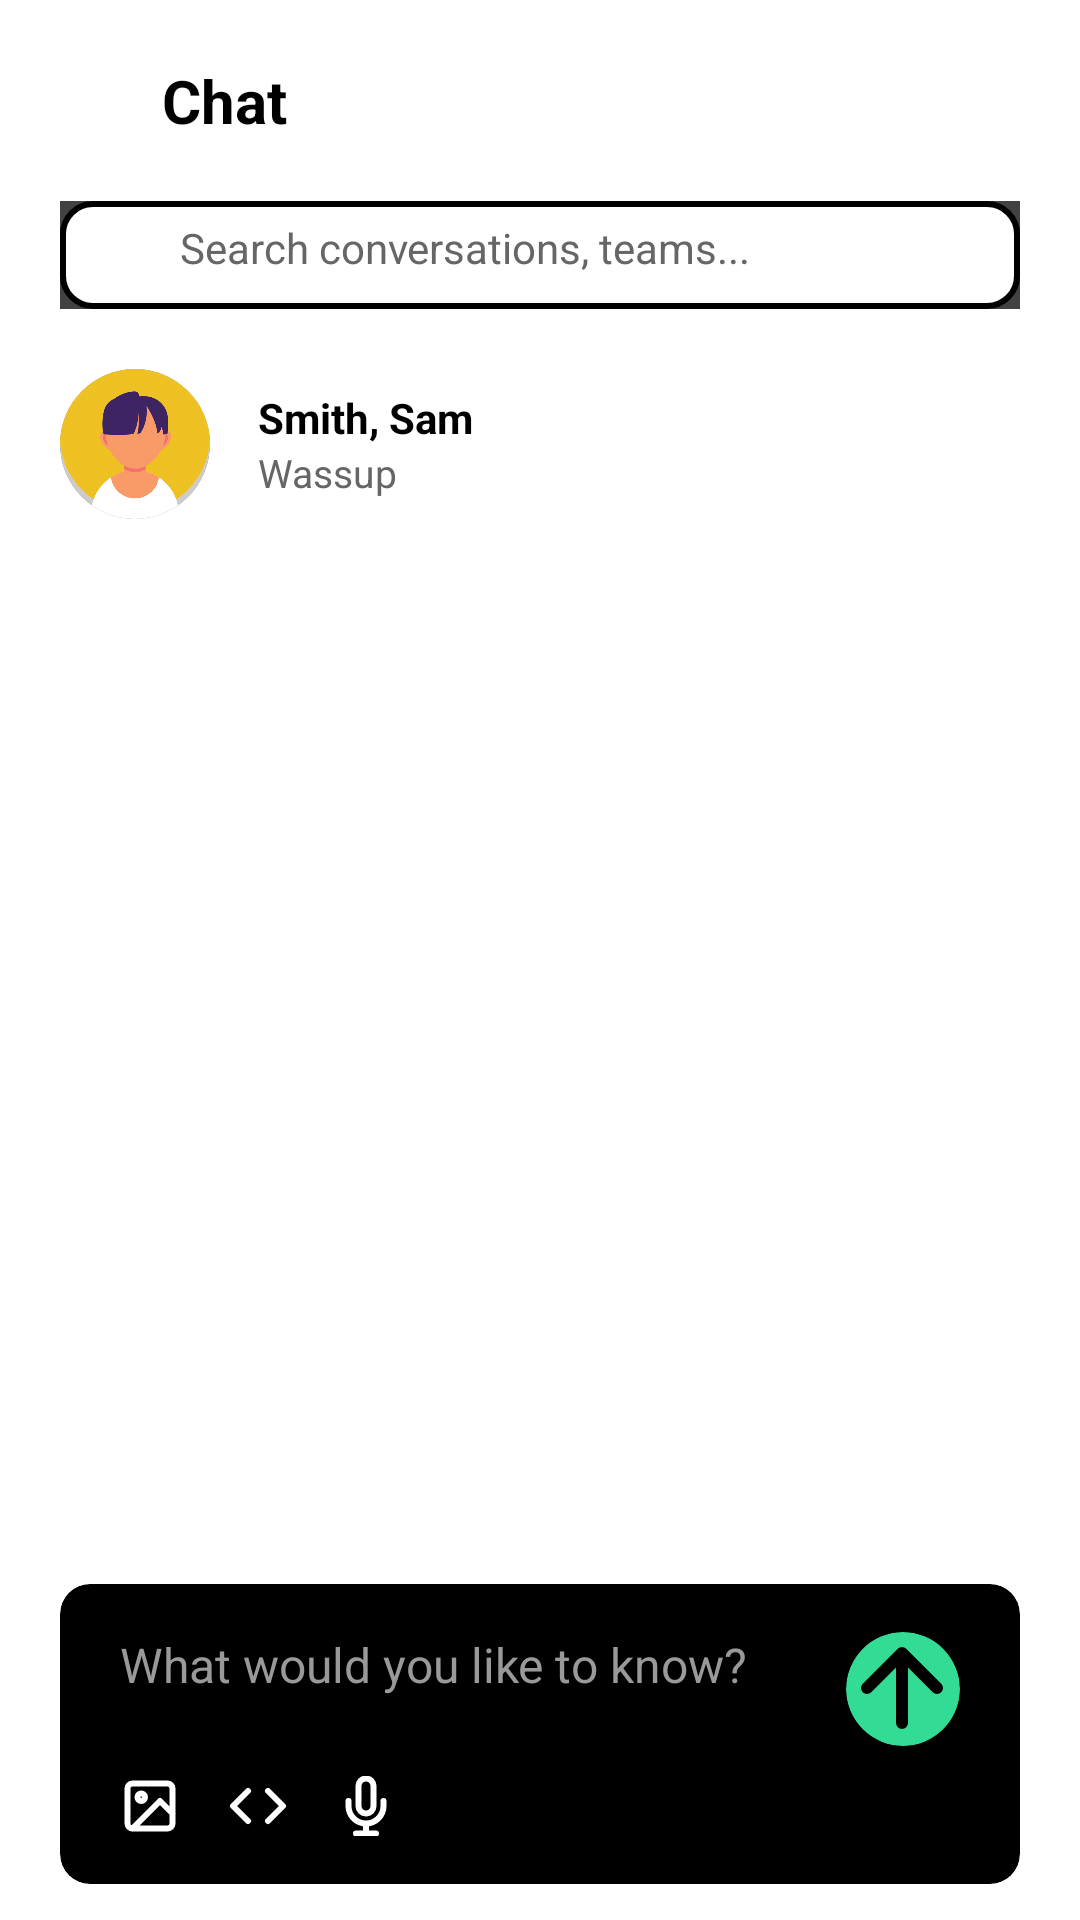

Screen size 1080*1920. Icon name, then its box in pixels as box=[x1, y1, x2, y2]:
code: box=[230, 1788, 286, 1824]
mic: box=[345, 1776, 387, 1836]
send: box=[861, 1647, 943, 1729]
